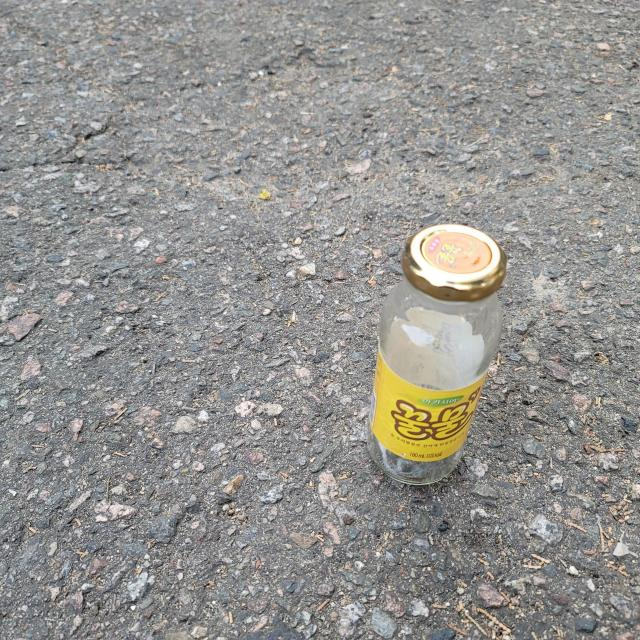glass: (368, 224, 507, 485)
